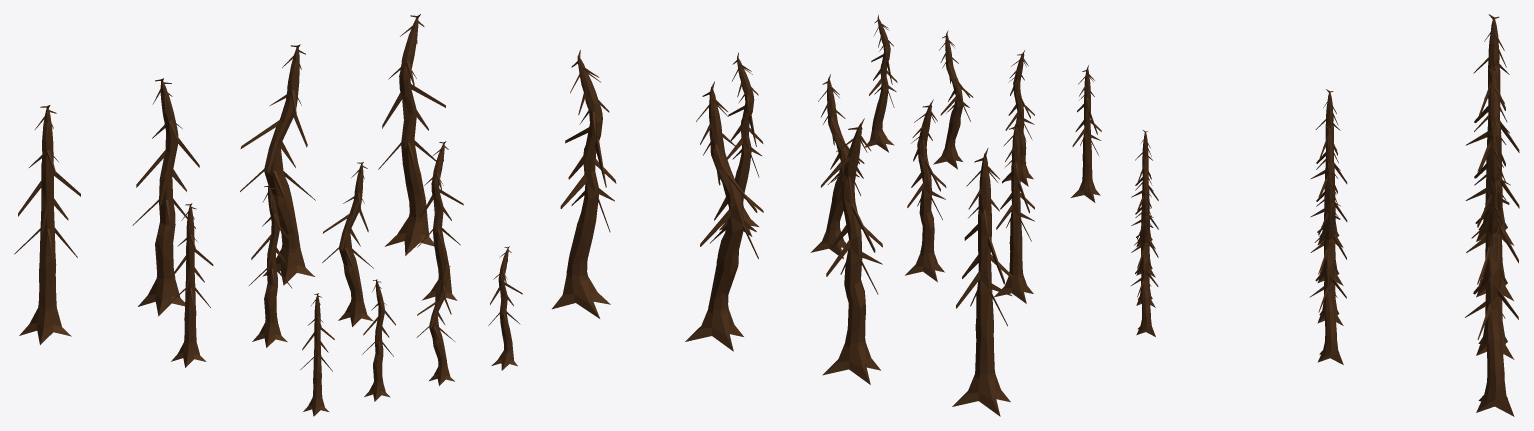
File: _BareTrees.fbx
3 renders of one model, left to right at view 1: azimuth 30°, elevation 25°; view 2: azimuth 150°, elevation 25°; view 3: azimuth 270°, elevation 25°, orthographic. The views are drawn at different scales.
Parts seen in each view (by area): view 1: BareTree3.001, BareTree1.001, BareTree2.001, BareTree4.001, BareTree3, BareTree1, BareTree2, BareTree4, BareTree3.002, BareStump4.001, BareTree1.002, BareTree2.002 (+4 smaller); view 2: BareTree3.001, BareTree4.001, BareTree1.001, BareTree2.001, BareTree1, BareTree2, BareTree4, BareTree3, BareTree3.002, BareStump4.001, BareTree4.002, BareStump3.001 (+6 smaller); view 3: BareTree4.001, BareTree3.001, BareTree4, BareTree1.001, BareTree2.001, BareTree4.002, BareTree3, BareTree1, BareTree2, BareStump4.001, BareTree3.002, BareTree1.002 (+2 smaller).
Part boxes in pixels (x1,y1,x2,y2): BareTree3.001: (240,44,315,248); BareTree1.001: (14,105,80,308); BareTree2.001: (132,78,199,279); BareTree4.001: (378,14,445,217); BareTree3: (322,162,373,301); BareTree1: (167,203,213,342); BareTree2: (249,185,294,322); BareTree4: (417,141,463,279); BareTree3.002: (416,262,454,367); BareStump4.001: (384,213,434,255); BareTree1.002: (300,293,334,397); BareTree2.002: (362,279,395,382); BareTree3.001: (696,81,763,309); BareTree4.001: (560,50,616,276); BareTree1.001: (956,148,1012,374); BareTree2.001: (826,118,882,342); BareTree1: (996,120,1034,275); BareTree2: (907,99,946,253); BareTree4: (727,52,763,206); BareTree3: (818,74,864,230); BareTree3.002: (939,30,973,147); BareStump4.001: (552,271,610,318); BareTree4.002: (869,14,897,130); BareStump3.001: (685,305,743,351); BareTree4.001: (1465,188,1518,383); BareTree3.001: (1466,131,1518,322); BareTree4: (1309,209,1346,342); BareTree1.001: (1465,14,1519,207); BareTree2.001: (1465,68,1519,263); BareTree4.002: (1130,220,1158,319); BareTree3: (1310,170,1346,300); BareTree1: (1310,89,1347,221); BareTree2: (1310,126,1347,259); BareStump4.001: (1476,381,1514,416); BareTree3.002: (1131,190,1158,288); BareTree1.002: (1131,130,1158,229).
Bounding box in the file's own units: 2543 × 1357 × 2137.
